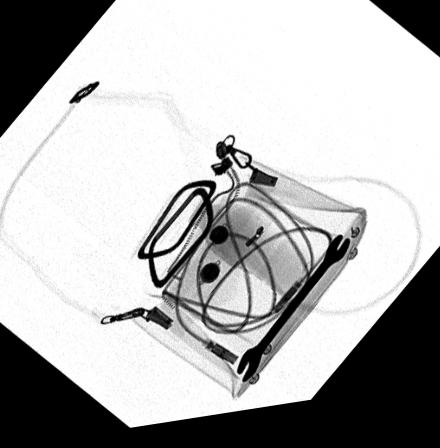Wrench: (235, 244, 350, 389)
